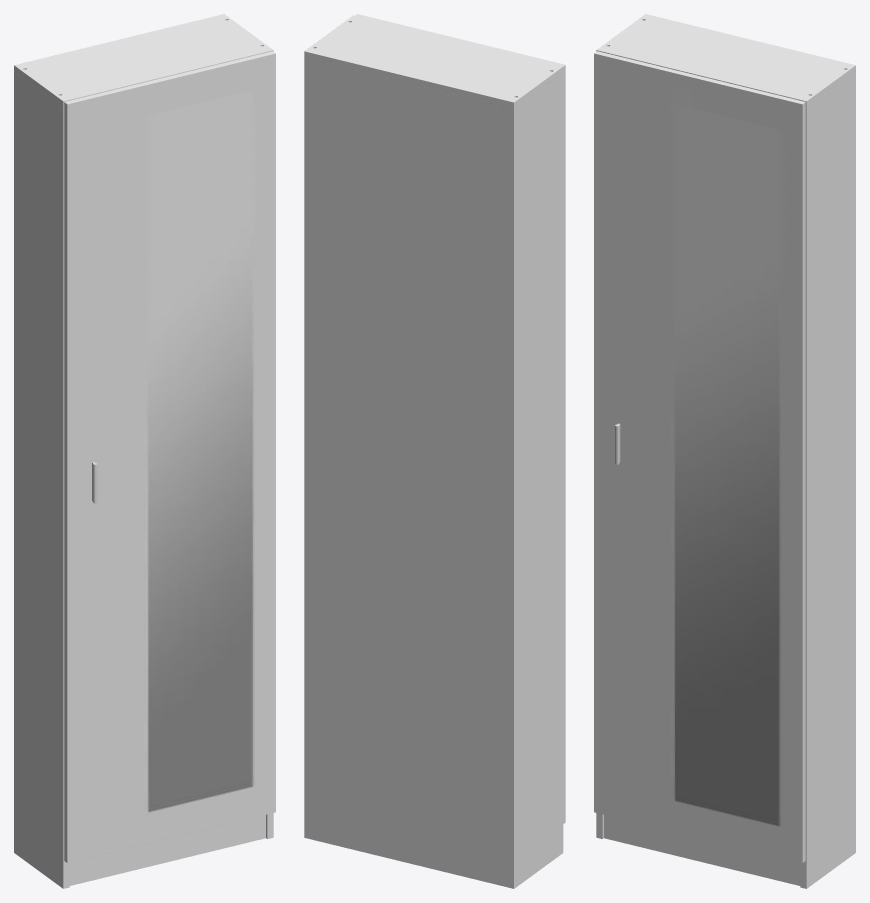
Rendered from abo-B07GFL9TZX.glb.
3 renders of one model, left to right at view 1: azimuth 30°, elevation 25°; view 2: azimuth 150°, elevation 25°; view 3: azimuth 330°, elevation 25°, orthographic.
Bounding box in the file's own units: 0.5 × 1.79 × 0.23.
1 material, 1 textured.
